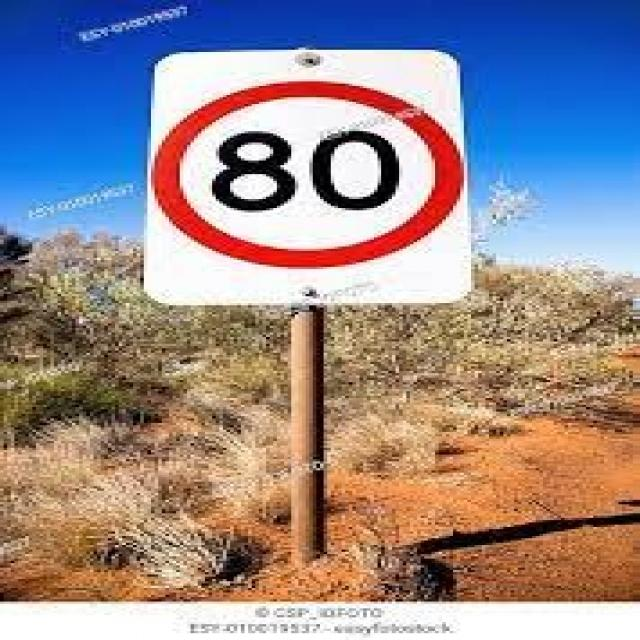speed_limit_80: (151, 75, 471, 270)
